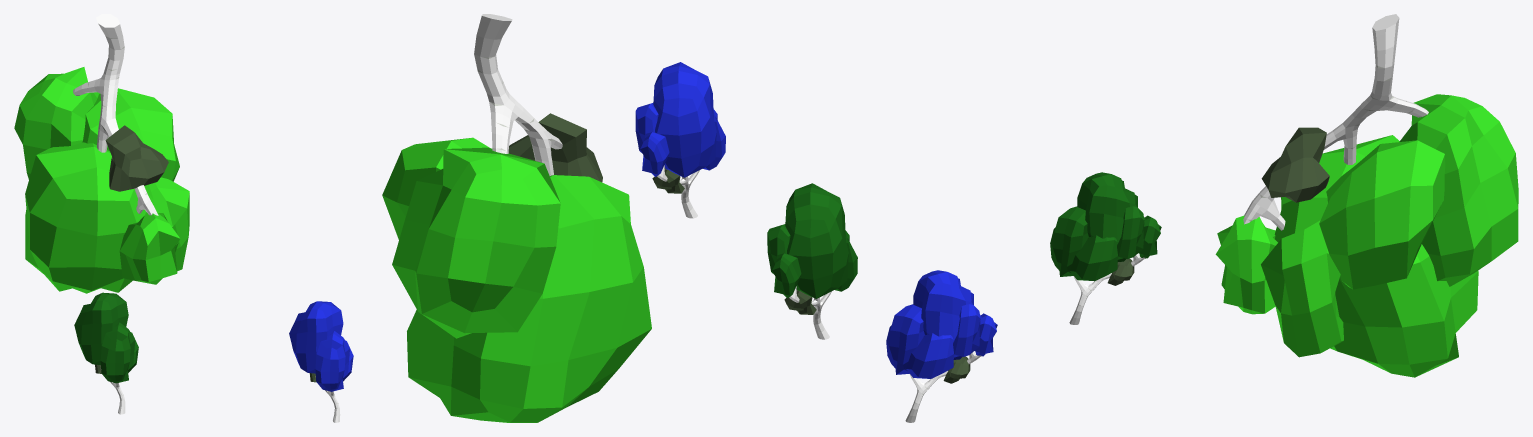
3 renders of one model, left to right at view 1: azimuth 30°, elevation 25°; view 2: azimuth 150°, elevation 25°; view 3: azimuth 270°, elevation 25°, orthographic. The views are drawn at different scales.
Visible parts, largest first — view 1: Cube002_2, Cube001_2, Cube_2, Cube002, Cube002_3; view 2: Cube002_2, Cube_2, Cube001_2, Cube002, Cube002_3, Cube, Cube001, Cube_3, Cube001_3; view 3: Cube002_2, Cube_2, Cube001_2, Cube002, Cube002_3, Cube, Cube001.
Part boxes in pixels (x1,y1,x2,y2): Cube002_2: (14, 67, 189, 293); Cube001_2: (74, 292, 138, 383); Cube_2: (289, 301, 353, 391); Cube002: (73, 14, 158, 215); Cube002_3: (105, 125, 168, 191); Cube002_2: (382, 137, 651, 422); Cube_2: (635, 62, 725, 177); Cube001_2: (767, 183, 857, 298); Cube002: (474, 14, 562, 175); Cube002_3: (508, 113, 602, 182); Cube: (657, 165, 699, 218); Cube001: (789, 286, 831, 339); Cube_3: (652, 168, 684, 193); Cube001_3: (784, 289, 816, 314); Cube002_2: (1215, 94, 1518, 377); Cube_2: (886, 270, 997, 378); Cube001_2: (1050, 172, 1161, 281); Cube002: (1243, 14, 1428, 230); Cube002_3: (1261, 127, 1329, 202); Cube: (905, 352, 981, 422); Cube001: (1069, 254, 1144, 324).
Bounding box in the file's own units: 6.84 × 9.12 × 14.05.
